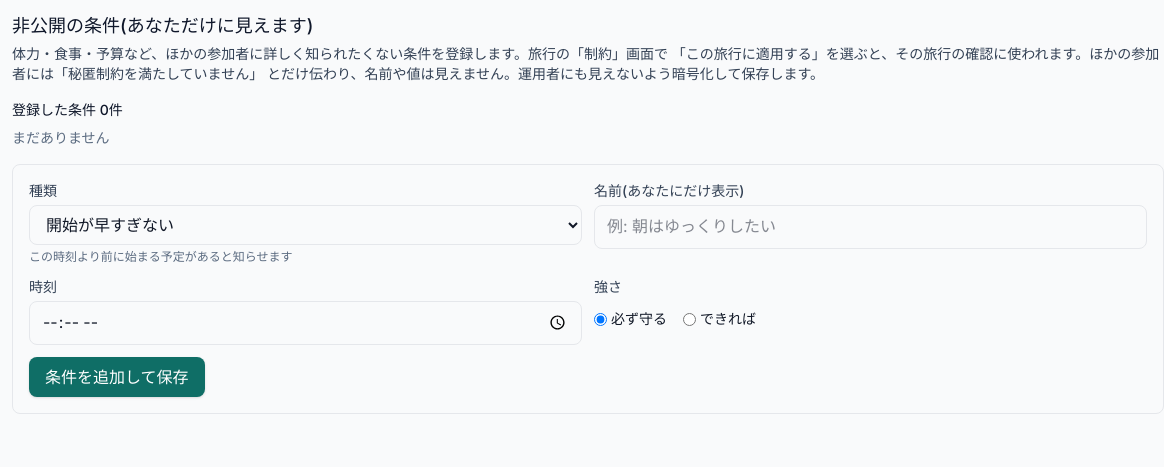
it: PrivateProfileSection (Gate C1 FR-023) › 入力が足りなければ保存せずに理由を示す
This screenshot has width=1164, height=467.
Check: the text "まだありません" is shown, box [12,129,110,146]
Click the button "条件を追加して保存": (117, 377) [29,357,204,397]
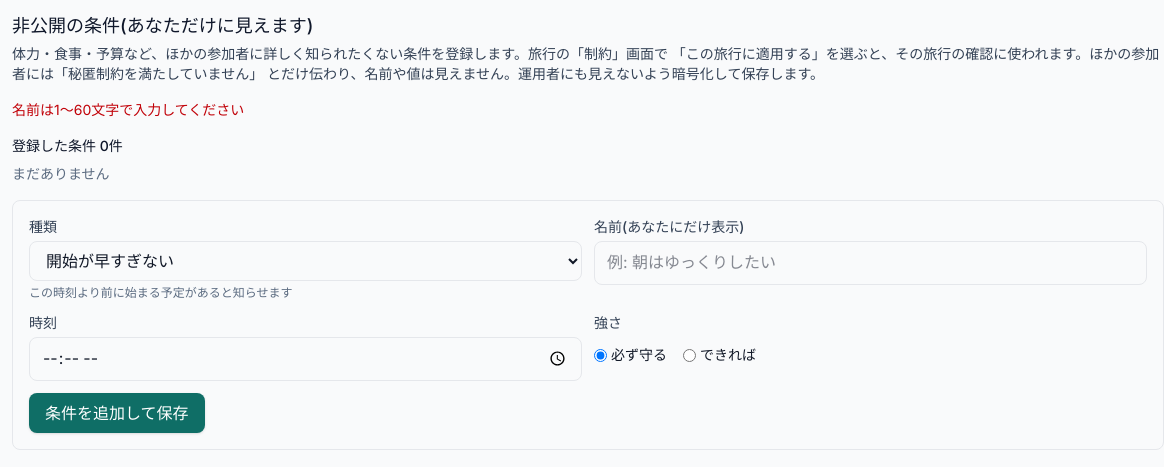
Check: the message shows "名前は1〜60文字", box [12,101,244,118]
